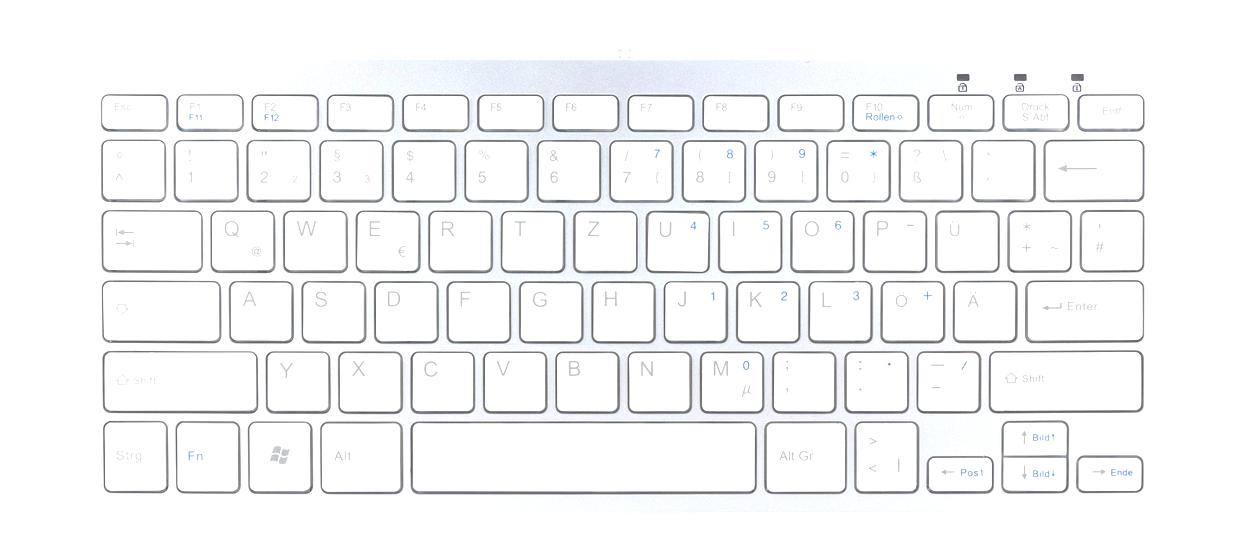0: (823, 135, 890, 200)
1: (171, 135, 236, 199)
2: (244, 135, 310, 199)
3: (315, 135, 382, 199)
4: (389, 135, 453, 199)
5: (460, 135, 526, 199)
6: (533, 135, 599, 199)
7: (607, 136, 672, 200)
8: (679, 136, 746, 200)
9: (752, 136, 818, 200)
a: (225, 276, 292, 339)
accent: (968, 134, 1033, 198)
ae: (949, 276, 1015, 339)
alt-left: (316, 416, 402, 492)
altgr-right: (760, 416, 845, 492)
b: (550, 347, 617, 411)
c: (406, 347, 473, 410)
caret: (98, 134, 163, 198)
comma: (768, 347, 834, 410)
d: (369, 276, 436, 341)
del: (1040, 134, 1144, 198)
e: (353, 206, 418, 271)
enter: (1021, 274, 1143, 339)
f: (443, 277, 508, 340)
g: (514, 277, 580, 340)
h: (588, 277, 653, 340)
hash: (1077, 205, 1143, 269)
i: (715, 206, 781, 270)
j: (660, 277, 726, 340)
k: (733, 276, 799, 341)
keyboard: (75, 51, 1168, 515)
l: (806, 276, 871, 341)
less: (851, 418, 919, 493)
m: (696, 347, 764, 412)
minus: (913, 347, 980, 410)
n: (623, 347, 690, 411)
o: (787, 205, 854, 270)
oe: (877, 276, 944, 340)
p: (859, 205, 926, 270)
plus: (1004, 205, 1070, 269)
point: (841, 347, 908, 410)
q: (206, 205, 274, 270)
r: (425, 206, 491, 270)
s: (297, 276, 364, 341)
shift-left: (99, 344, 257, 410)
shift-lock: (98, 275, 219, 340)
shift-right: (986, 345, 1143, 410)
space: (408, 417, 757, 493)
ss: (896, 135, 961, 199)
strg-left: (99, 415, 167, 491)
t: (498, 206, 562, 270)
tab: (98, 204, 201, 269)
u: (642, 206, 709, 271)
ue: (932, 205, 998, 271)
v: (479, 347, 546, 411)
w: (279, 205, 345, 270)
x: (334, 347, 401, 411)
y: (262, 346, 328, 410)
z: (570, 206, 636, 271)
